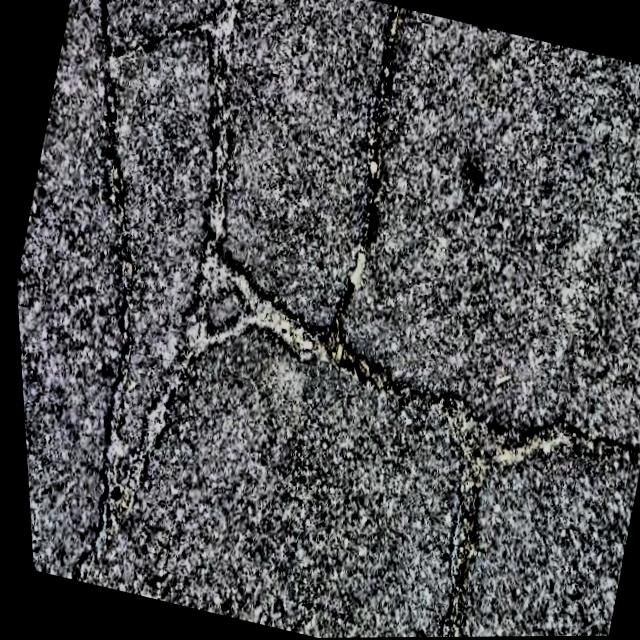cracks: (323, 7, 404, 367)
